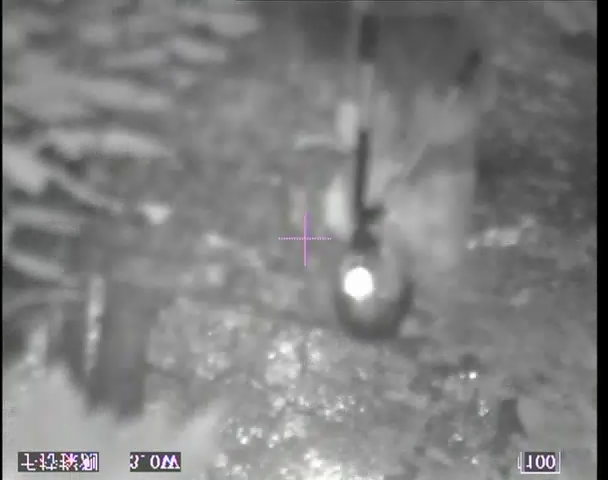my: (340, 265, 375, 297)
